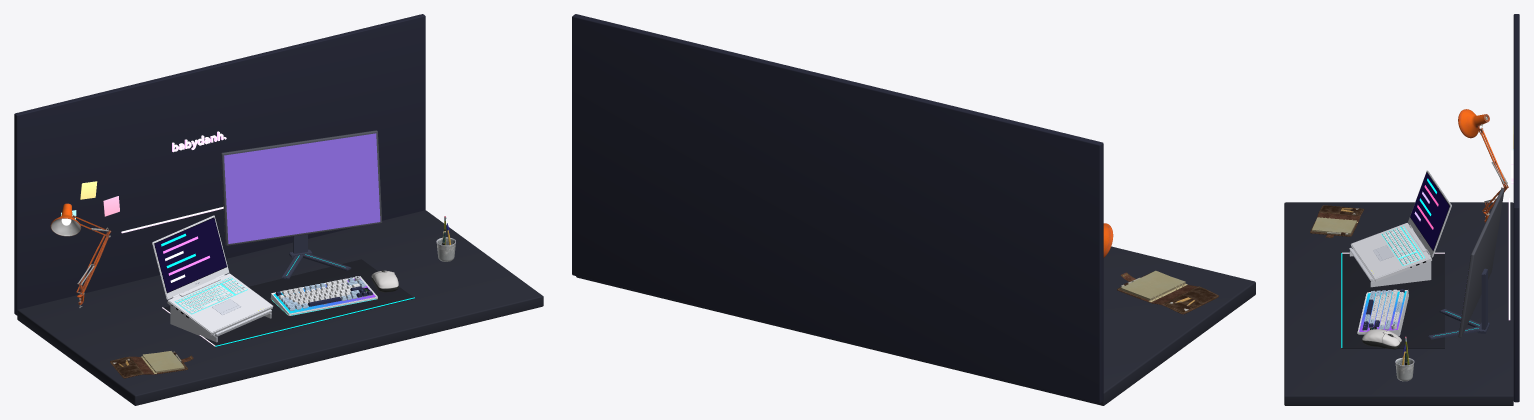
The model's file is desk.glb.
3 renders of one model, left to right at view 1: azimuth 30°, elevation 25°; view 2: azimuth 150°, elevation 25°; view 3: azimuth 270°, elevation 25°, orthographic. The views are drawn at different scales.
Visible parts, largest first — view 1: wall, desk, mon_screen, deskmat, lt_display, lt_base, mon_back, binder_notebook, lt_keys, s75_caps_w, lt_lid, b_geo_lamp-head (+5 smaller); view 2: wall, desk, binder_notebook; view 3: desk, deskmat, wall, mon_back, lt_base, lt_display, binder_notebook, lt_keys, s75_caps_w, st_side_1, mouse, b_geo_lamp-head (+9 smaller).
Part boxes in pixels (x1,y1,x2,y2): wall: (14,14,425,315); desk: (17,210,543,405); mon_screen: (224,133,380,243); deskmat: (164,259,414,347); lt_display: (154,218,226,292); lt_base: (167,273,273,335); mon_back: (221,130,382,245); binder_notebook: (110,351,193,378); lt_keys: (175,277,246,313); s75_caps_w: (278,278,360,304); lt_lid: (152,215,229,299); b_geo_lamp-head: (50,203,81,236); wall: (572,14,1103,403); desk: (576,246,1255,405); binder_notebook: (1117,270,1218,314); desk: (1284,202,1513,405); deskmat: (1342,253,1444,348); wall: (1513,14,1519,402); mon_back: (1458,188,1504,337); lt_base: (1351,223,1431,281); lt_display: (1410,172,1449,250); binder_notebook: (1310,205,1364,237); lt_keys: (1382,226,1424,265); s75_caps_w: (1370,289,1404,326); st_side_1: (1370,261,1431,287); mouse: (1362,329,1401,349); b_geo_lamp-head: (1458,109,1489,138).
Size of the model in its own units: 1.6 by 0.765 by 0.82.
Materials: 45 (10 with a texture image).
